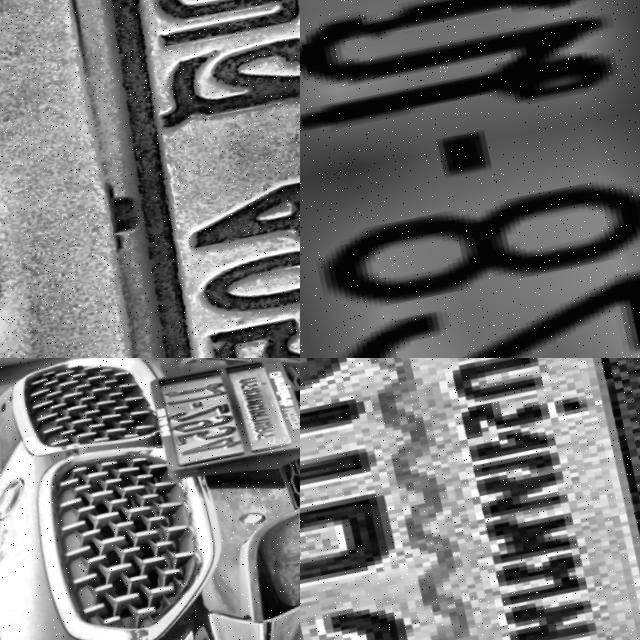license-plate: (300, 0, 640, 358), (300, 358, 640, 640), (44, 0, 300, 358), (133, 358, 300, 496)
